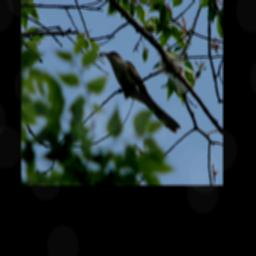Cuckoo: (100, 49, 181, 130)
